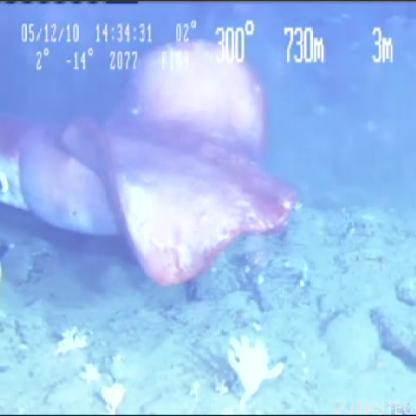Bio: (1, 34, 301, 294)
